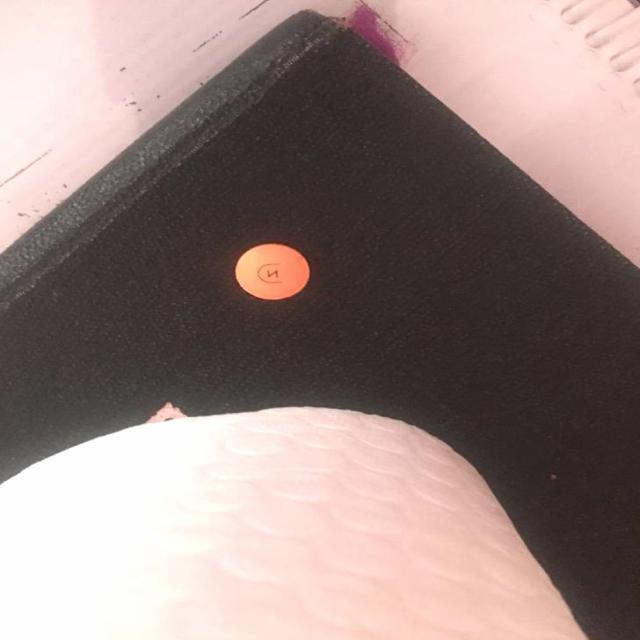pill: (231, 242, 319, 300)
